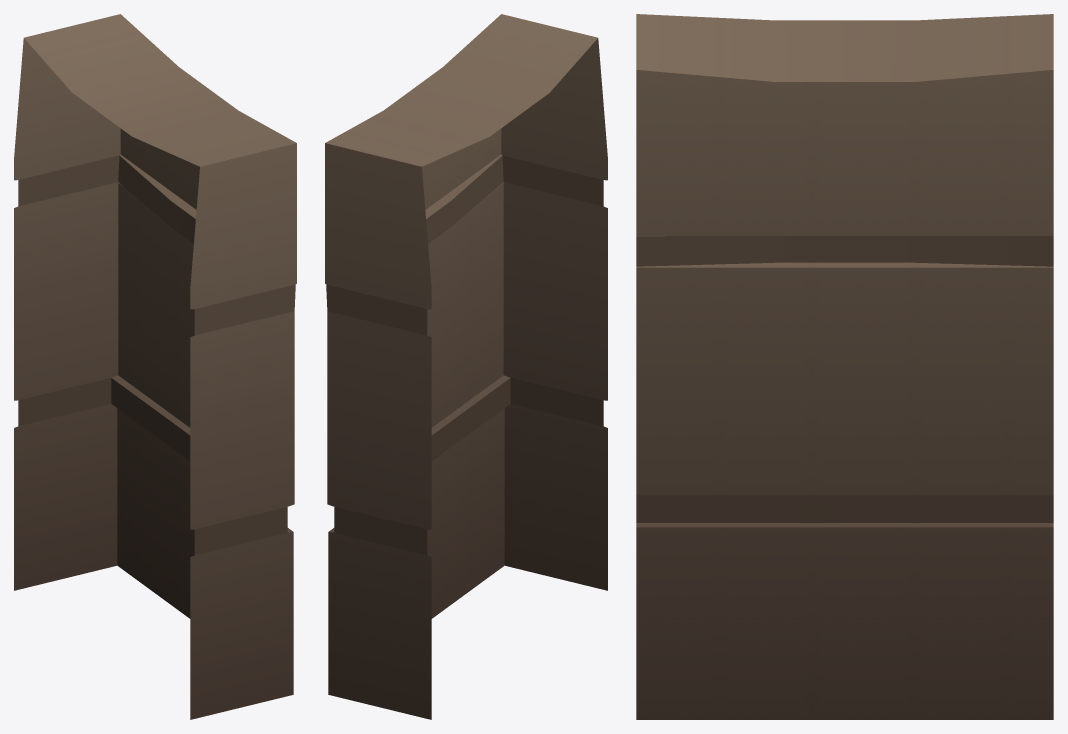
Rendered from pared_3.fbx.
The picture shows the model from 3 angles, left to right: view 1: azimuth 30°, elevation 25°; view 2: azimuth 150°, elevation 25°; view 3: azimuth 270°, elevation 25°; orthographic projection. The views are drawn at different scales.
Parts seen in each view (by area): view 1: ParedMedia.002; view 2: ParedMedia.002; view 3: ParedMedia.002.
Boxes of the visible parts, left/top/right/bottom form: ParedMedia.002: left=14, top=14, right=296, bottom=719; ParedMedia.002: left=325, top=14, right=607, bottom=719; ParedMedia.002: left=636, top=14, right=1053, bottom=719.
Bounding box in the file's own units: 206 × 1019 × 591.
